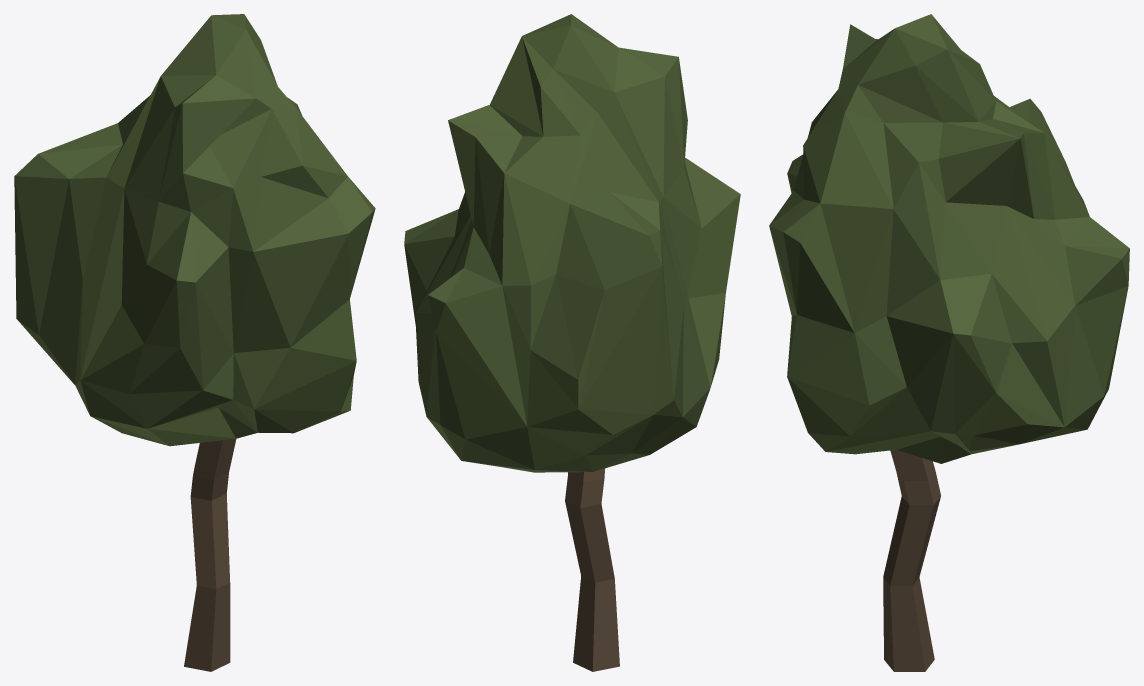
The model's file is Tree_082.fbx.
3 views of the same model, side by side, from view 1: azimuth 30°, elevation 25°; view 2: azimuth 150°, elevation 25°; view 3: azimuth 270°, elevation 25° (orthographic). The views are drawn at different scales.
Parts seen in each view (by area): view 1: Tree_082; view 2: Tree_082; view 3: Tree_082.
Boxes of the visible parts, x1=… form: Tree_082: x1=14, y1=14, x2=375, y2=671; Tree_082: x1=404, y1=14, x2=740, y2=671; Tree_082: x1=769, y1=14, x2=1129, y2=671.
Bounding box in the file's own units: 0.6954 × 1.42 × 0.7051.
1 material, 1 textured.
